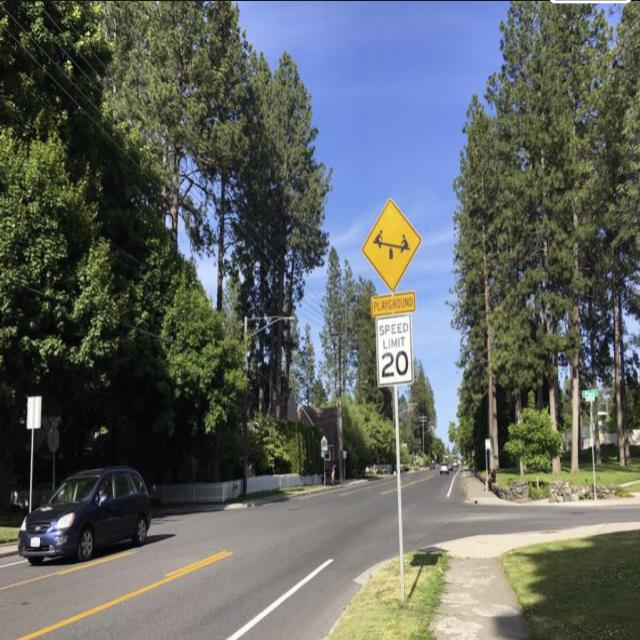speedLimit20: (376, 318, 413, 385)
